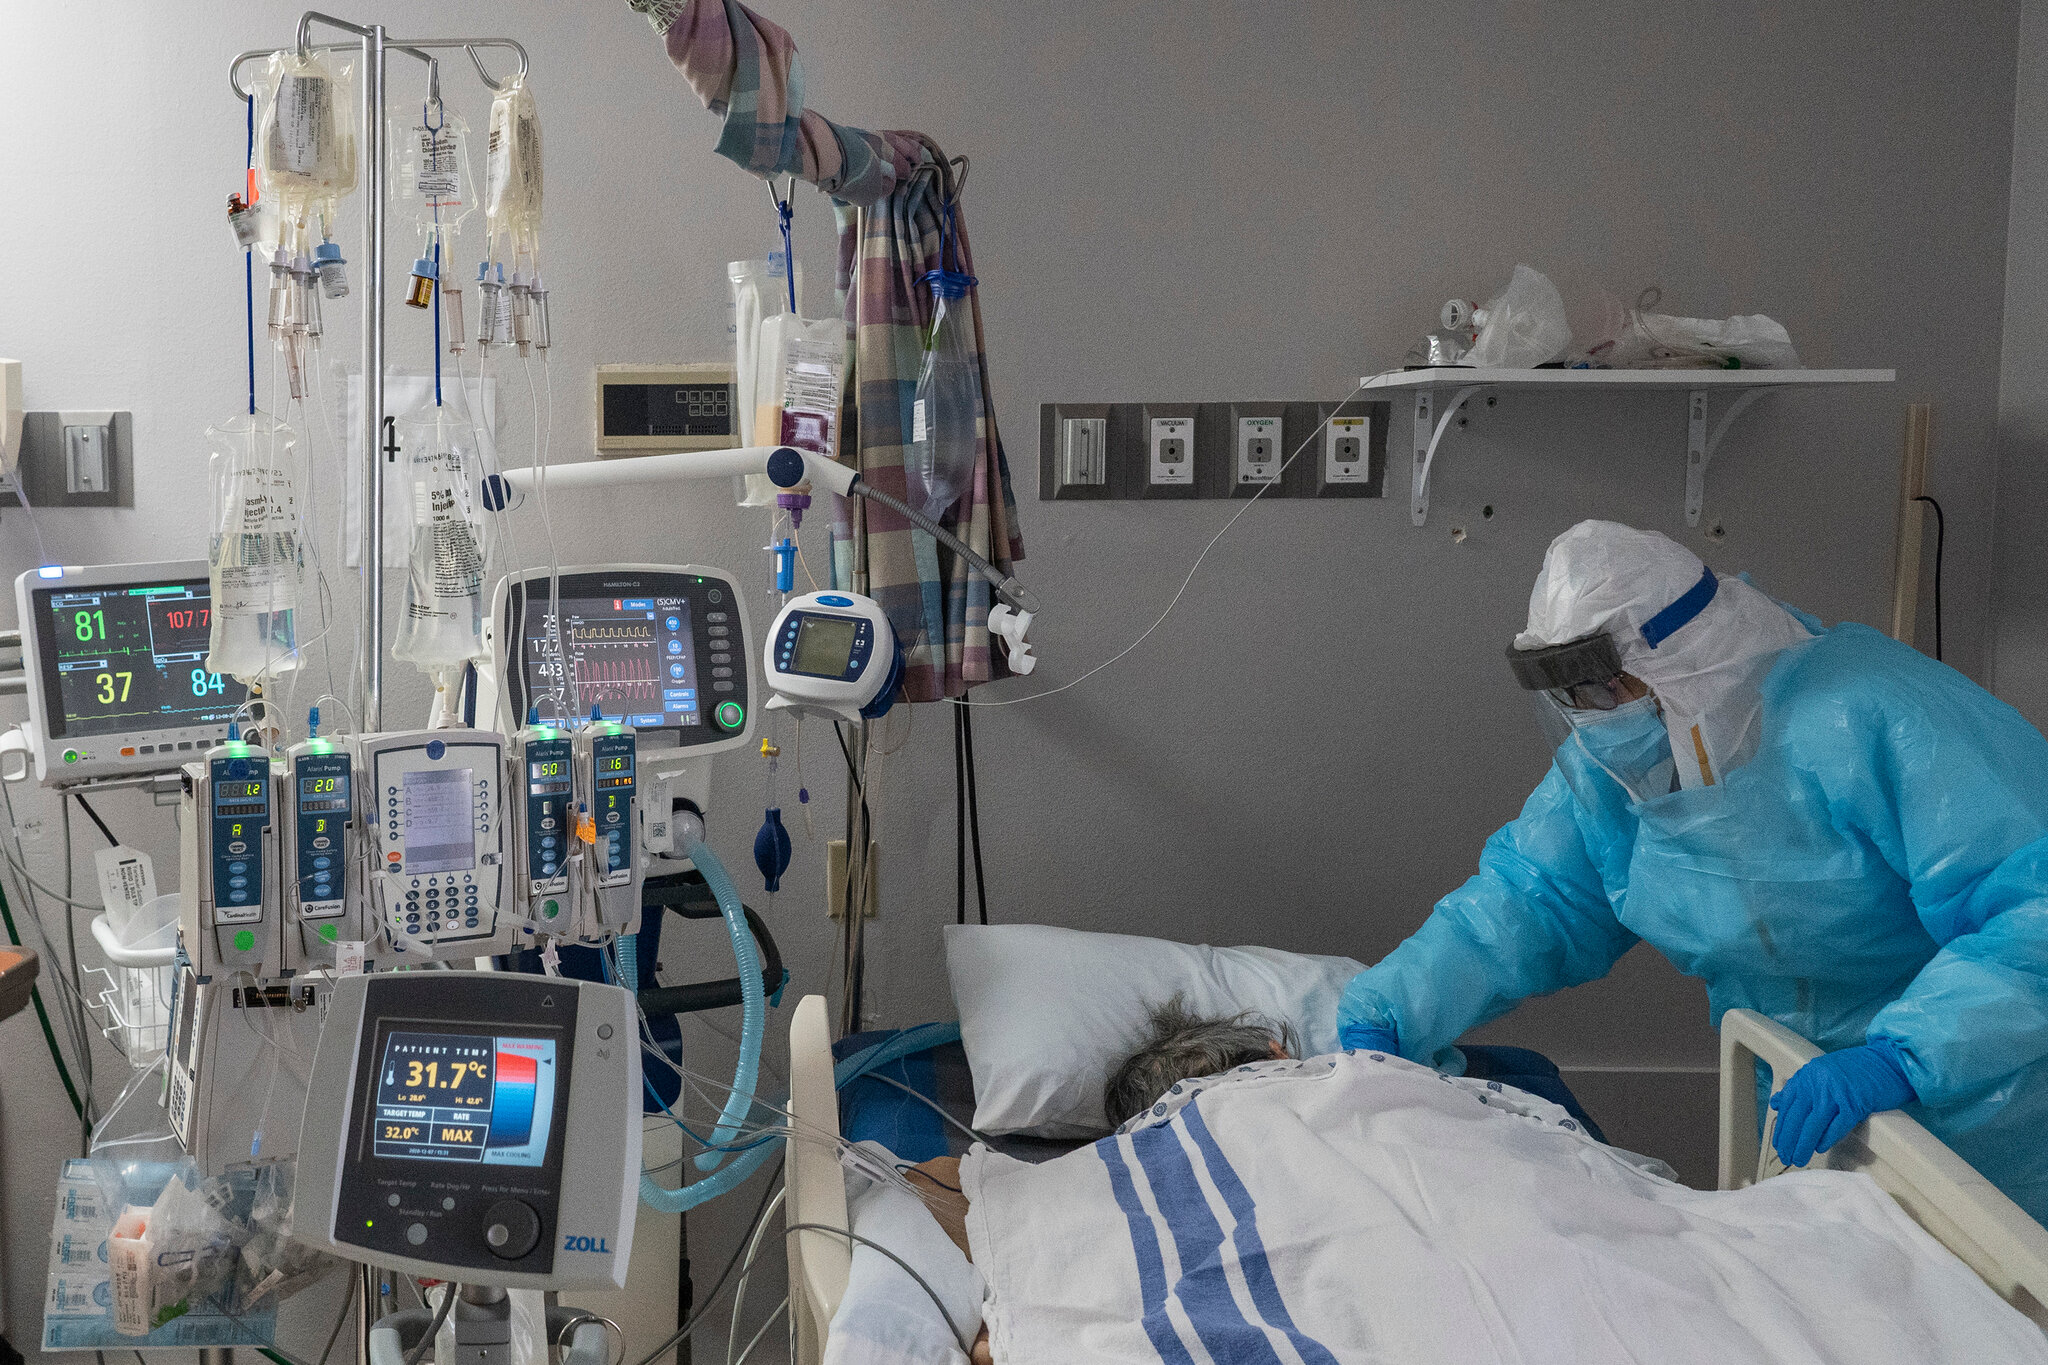bedrail: (1718, 1007, 2048, 1365), (786, 992, 854, 1365)
bedside_monitor: (280, 966, 645, 1297), (12, 558, 276, 787)
breathing_tube: (585, 823, 972, 1217)
hospital_bed: (783, 922, 2045, 1365)
infusion_pump: (187, 710, 650, 984)
iv_pole: (225, 7, 542, 969)
patient: (1101, 989, 1723, 1365)
staff: (1337, 516, 2048, 1216)
ventilator: (481, 558, 762, 1351)
